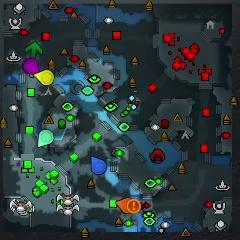Other: (127, 199, 141, 214)
p1: (92, 156, 106, 174)
p2: (38, 129, 54, 146)
p3: (23, 59, 39, 76)
p4: (33, 70, 54, 85)
p5: (116, 196, 134, 214)
x4: (25, 41, 42, 59)
